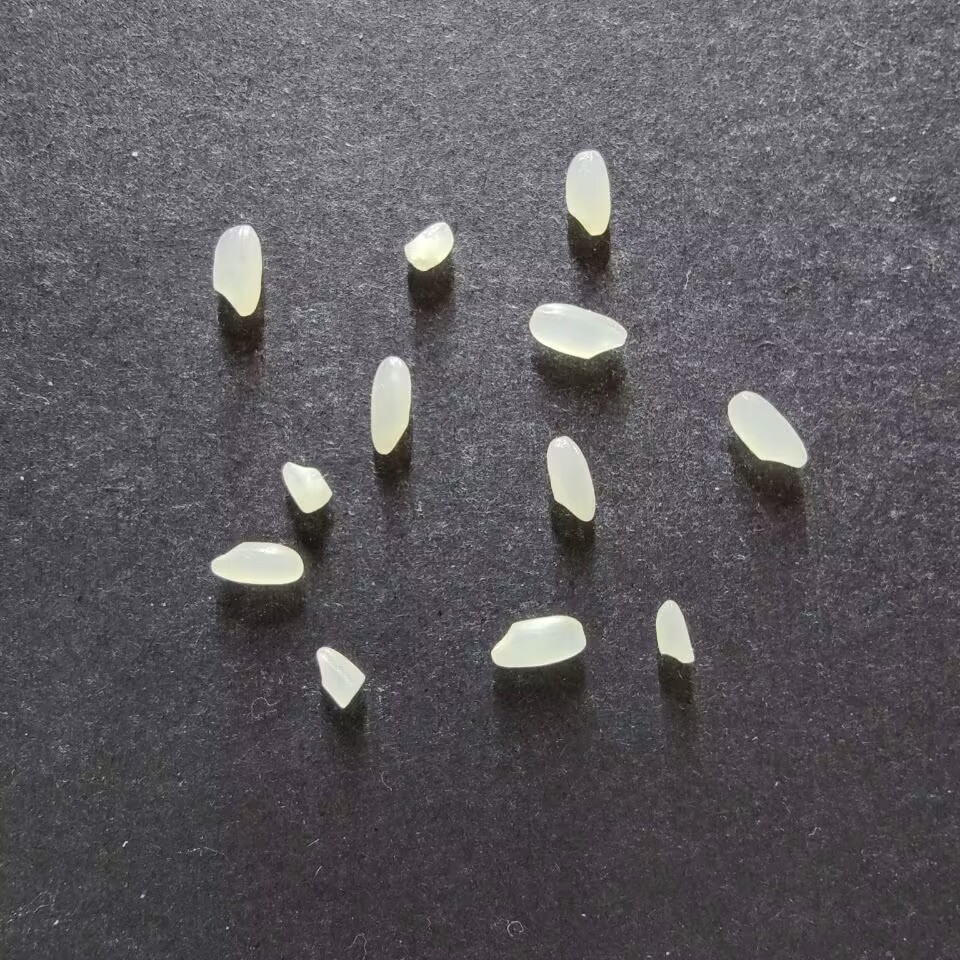broken: (314, 645, 367, 709), (280, 461, 333, 514), (403, 219, 454, 272)
rice: (726, 390, 808, 469), (527, 303, 627, 359), (490, 615, 585, 668), (211, 224, 262, 317), (545, 436, 596, 523), (209, 540, 303, 585), (369, 355, 410, 455), (564, 149, 611, 236), (655, 598, 695, 664)
